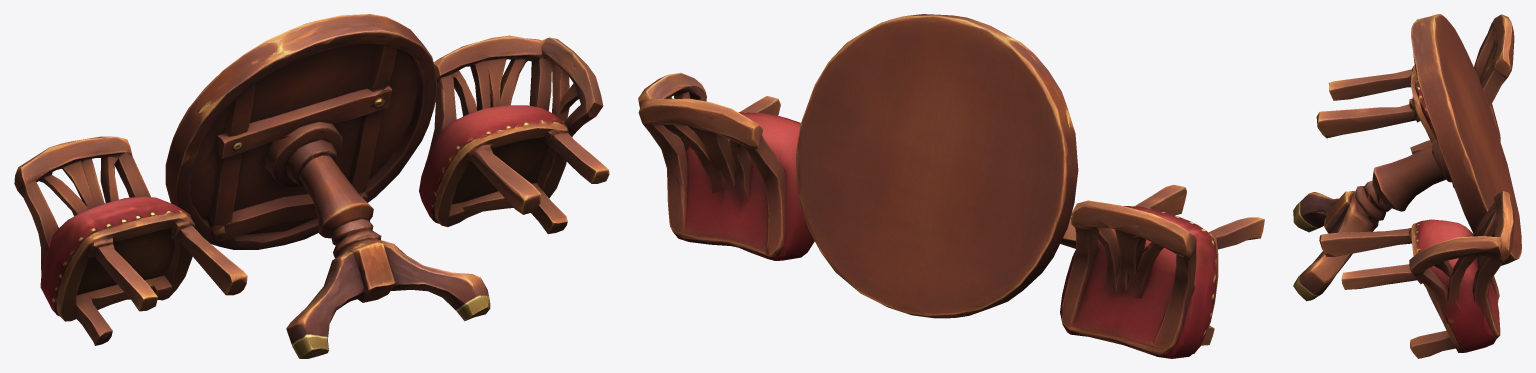
Rendered from 07-ballroom-furniture.glb.
3 views of the same model, side by side, from view 1: azimuth 30°, elevation 25°; view 2: azimuth 150°, elevation 25°; view 3: azimuth 270°, elevation 25° (orthographic). The views are drawn at different scales.
Parts seen in each view (by area): view 1: SM_BallroomFurniture; view 2: SM_BallroomFurniture; view 3: SM_BallroomFurniture.
Boxes of the visible parts, bbox=[...] form: SM_BallroomFurniture: bbox=[14, 14, 609, 358]; SM_BallroomFurniture: bbox=[638, 14, 1264, 358]; SM_BallroomFurniture: bbox=[1293, 14, 1521, 358].
Bounding box in the file's own units: 1.71 × 0.8135 × 0.711.
1 material, 1 textured.
